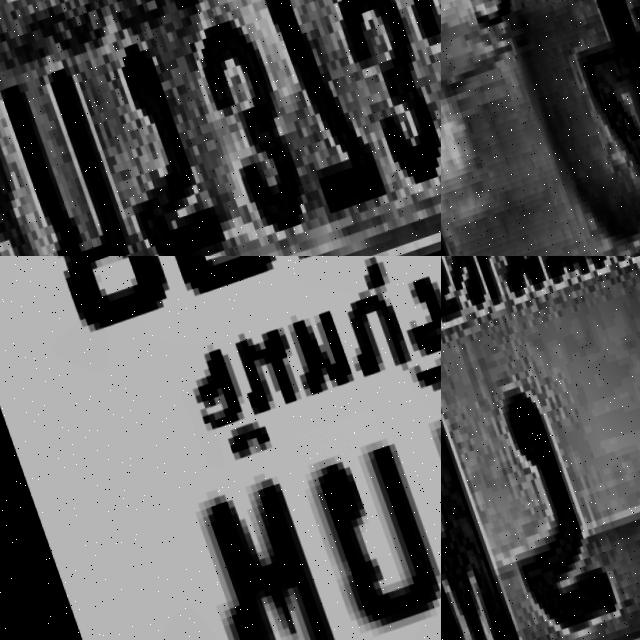license-plate: (0, 256, 441, 640), (0, 0, 441, 256), (441, 256, 640, 640), (441, 0, 640, 256)
